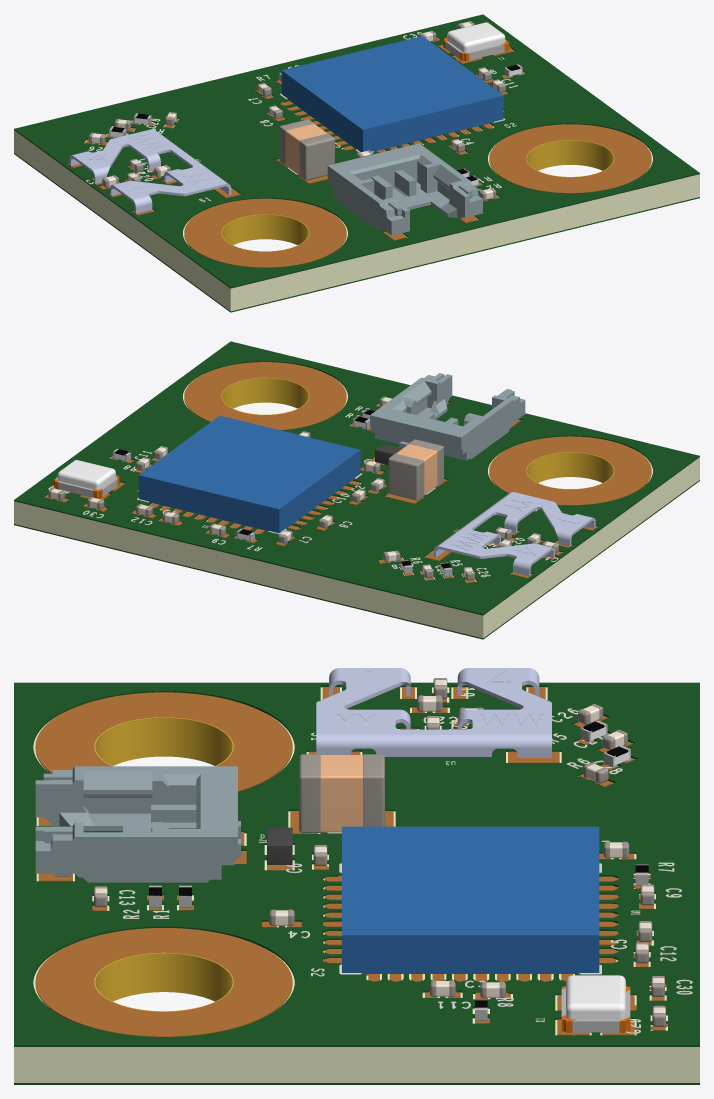
Rendered from assembly.glb.
The picture shows the model from 3 angles, top to bottom: view 1: azimuth 30°, elevation 25°; view 2: azimuth 150°, elevation 25°; view 3: azimuth 270°, elevation 25°; orthographic projection. The views are drawn at different scales.
Parts seen in each view (by area): view 1: board_17, package_envelopes_15, board_19, components_18, connector_05, antenna_12, components_20, passives_00, passives_11, passives_02, markings_16, passives_01 (+1 smaller); view 2: board_17, package_envelopes_15, board_19, components_18, connector_05, antenna_12, components_20, passives_00, passives_02, passives_11, markings_16, passives_01 (+2 smaller); view 3: board_17, package_envelopes_15, components_18, board_19, connector_05, antenna_12, components_20, passives_00, passives_01, markings_16, passives_11, passives_02 (+4 smaller).
Part boxes in pixels (left/top/right/bottom): board_17: left=14, top=14, right=699, bottom=312; package_envelopes_15: left=281, top=36, right=503, bottom=152; board_19: left=14, top=46, right=699, bottom=311; components_18: left=67, top=37, right=651, bottom=267; connector_05: left=327, top=143, right=482, bottom=235; antenna_12: left=69, top=129, right=231, bottom=213; components_20: left=221, top=140, right=614, bottom=251; passives_00: left=88, top=21, right=505, bottom=200; passives_11: left=447, top=22, right=505, bottom=52; passives_02: left=92, top=22, right=502, bottom=199; markings_16: left=86, top=32, right=518, bottom=202; passives_01: left=285, top=124, right=327, bottom=174; board_17: left=14, top=341, right=699, bottom=639; package_envelopes_15: left=138, top=415, right=360, bottom=533; board_19: left=14, top=374, right=699, bottom=638; components_18: left=45, top=362, right=651, bottom=582; connector_05: left=370, top=373, right=525, bottom=460; antenna_12: left=433, top=492, right=595, bottom=576; components_20: left=221, top=377, right=614, bottom=489; passives_00: left=48, top=396, right=558, bottom=580; passives_02: left=51, top=397, right=554, bottom=577; passives_11: left=57, top=460, right=115, bottom=489; markings_16: left=48, top=406, right=558, bottom=577; passives_01: left=396, top=444, right=437, bottom=495; board_17: left=14, top=682, right=699, bottom=1084; package_envelopes_15: left=342, top=826, right=599, bottom=973; components_18: left=35, top=687, right=667, bottom=1036; board_19: left=14, top=687, right=699, bottom=1082; connector_05: left=35, top=766, right=240, bottom=882; antenna_12: left=316, top=668, right=551, bottom=757; components_20: left=94, top=717, right=233, bottom=1011; passives_00: left=94, top=678, right=665, bottom=1026; passives_01: left=320, top=755, right=363, bottom=832; markings_16: left=119, top=685, right=692, bottom=1033; passives_11: left=566, top=975, right=625, bottom=1019; passives_02: left=94, top=680, right=665, bottom=1013.
Size of the model in its own units: 0.02 by 0.00322 by 0.016.
